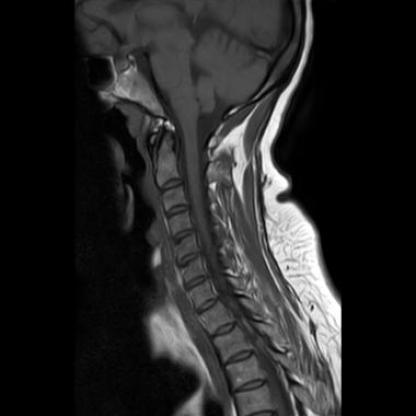Disc Bulgerotation: (164, 203, 190, 218), (182, 276, 209, 290), (176, 252, 204, 265), (159, 178, 185, 192), (170, 228, 195, 242)
Disc Herniationrotation: (192, 300, 223, 313)
